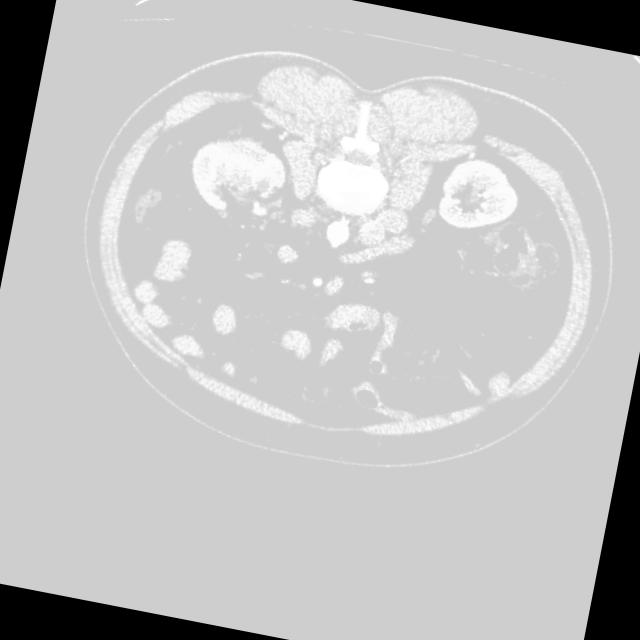TUMOR: (124, 39, 554, 457)
